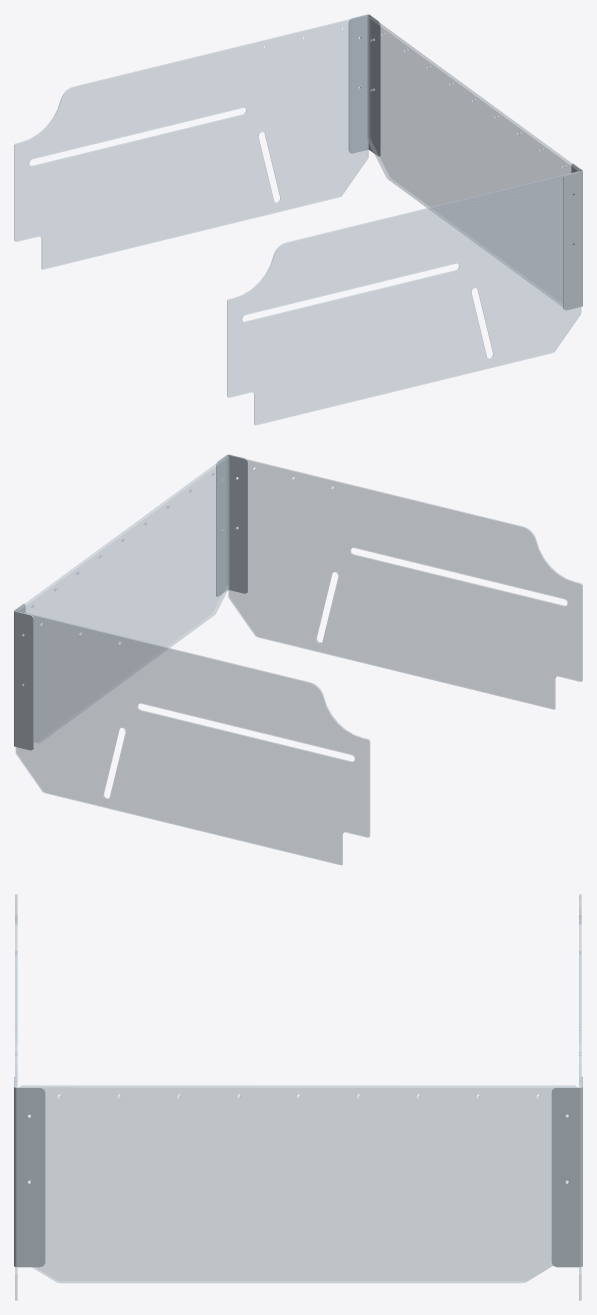
File: 1678-slide.glb
3 renders of one model, top to bottom at view 1: azimuth 30°, elevation 25°; view 2: azimuth 150°, elevation 25°; view 3: azimuth 270°, elevation 25°, orthographic. The views are drawn at different scales.
Parts seen in each view (by area): view 1: 1678-26c-1529, part 73; view 2: 1678-26c-1529, part 73; view 3: 1678-26c-1529, part 73.
Part boxes in pixels (x1=…): 1678-26c-1529: x1=14, y1=15, x2=581, y2=425; part 73: x1=348, y1=14, x2=582, y2=310; 1678-26c-1529: x1=15, y1=455, x2=582, y2=865; part 73: x1=14, y1=454, x2=247, y2=750; 1678-26c-1529: x1=15, y1=894, x2=581, y2=1300; part 73: x1=14, y1=1076, x2=582, y2=1267.
Bounding box in the file's own units: 0.6643 × 0.3121 × 0.6944.
